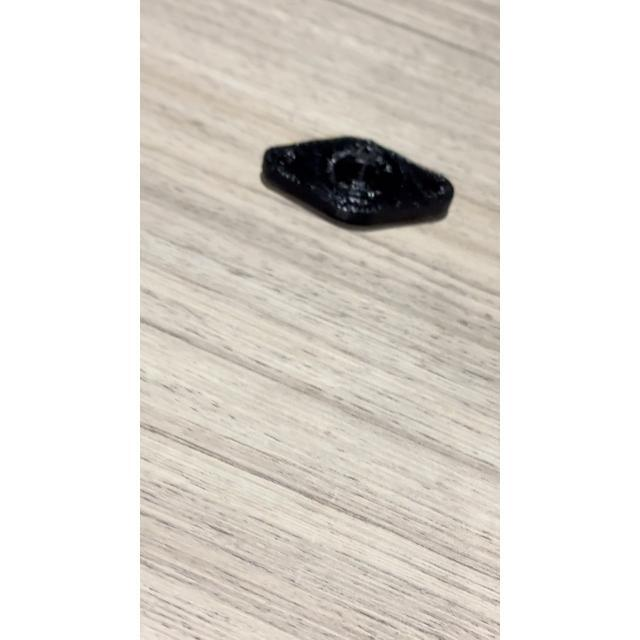Pieza2: (243, 124, 459, 248)
